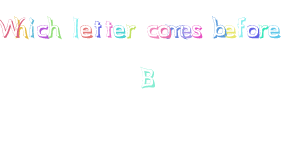B: (135, 63, 161, 90)
W: (1, 14, 18, 44)
b: (211, 13, 227, 41)
c: (144, 18, 159, 42), (35, 21, 50, 40)
e: (266, 20, 282, 40), (223, 21, 237, 41), (179, 20, 192, 40), (79, 22, 93, 40), (113, 23, 126, 41)
f: (235, 14, 247, 41)
h: (47, 15, 63, 45), (13, 14, 29, 42)
i: (27, 16, 38, 40)
l: (69, 14, 84, 41)
m: (166, 21, 184, 40)
o: (156, 21, 173, 40), (246, 23, 260, 41)
r: (125, 19, 138, 42), (257, 21, 269, 42)
s: (190, 20, 207, 42)
t: (102, 16, 116, 39), (92, 17, 104, 40)
